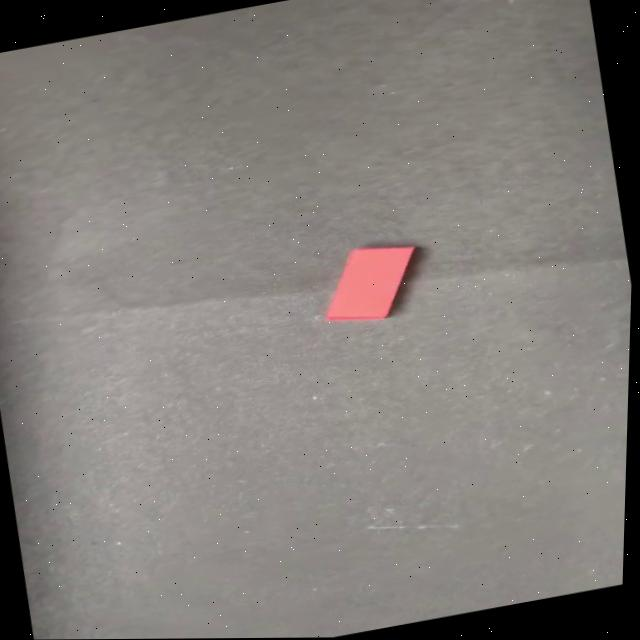red block: (312, 235, 426, 328)
